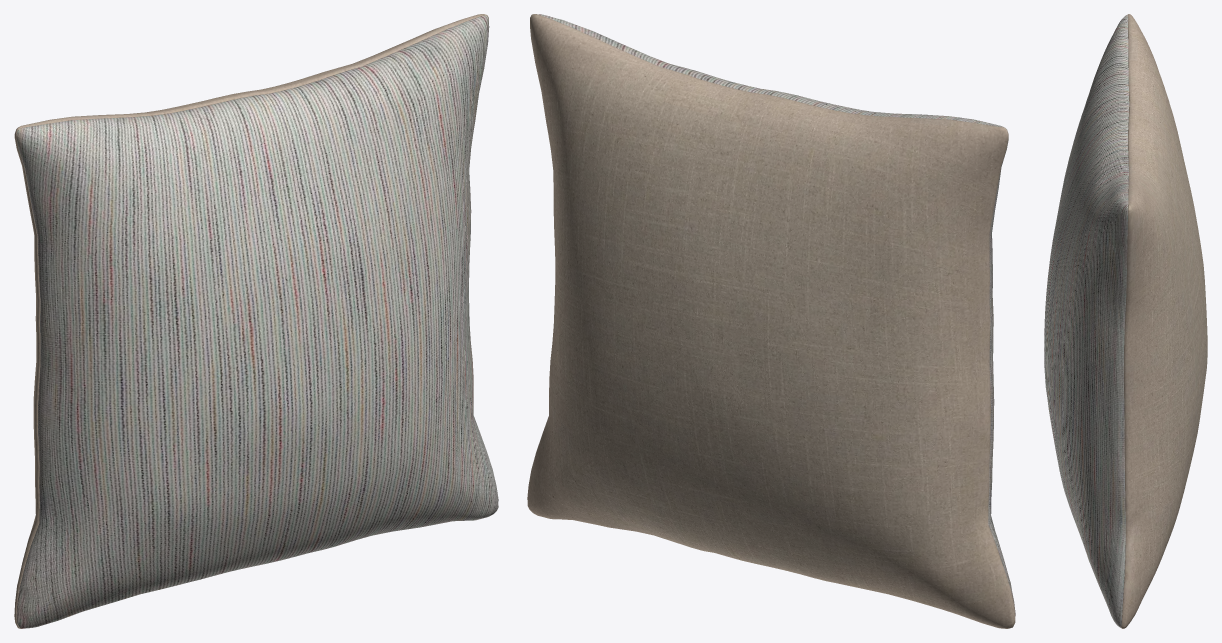
The model's file is B07BMQ657W.glb.
3 renders of one model, left to right at view 1: azimuth 30°, elevation 25°; view 2: azimuth 150°, elevation 25°; view 3: azimuth 270°, elevation 25°, orthographic. The views are drawn at different scales.
Visible parts, largest first — view 1: RootNode; view 2: RootNode; view 3: RootNode.
Boxes of the visible parts, x1=… form: RootNode: x1=14, y1=14, x2=498, y2=628; RootNode: x1=527, y1=14, x2=1015, y2=628; RootNode: x1=1044, y1=14, x2=1207, y2=628.
Size of the model in its own units: 0.5121 by 0.5062 by 0.1779.
Materials: 1 (1 with a texture image).
